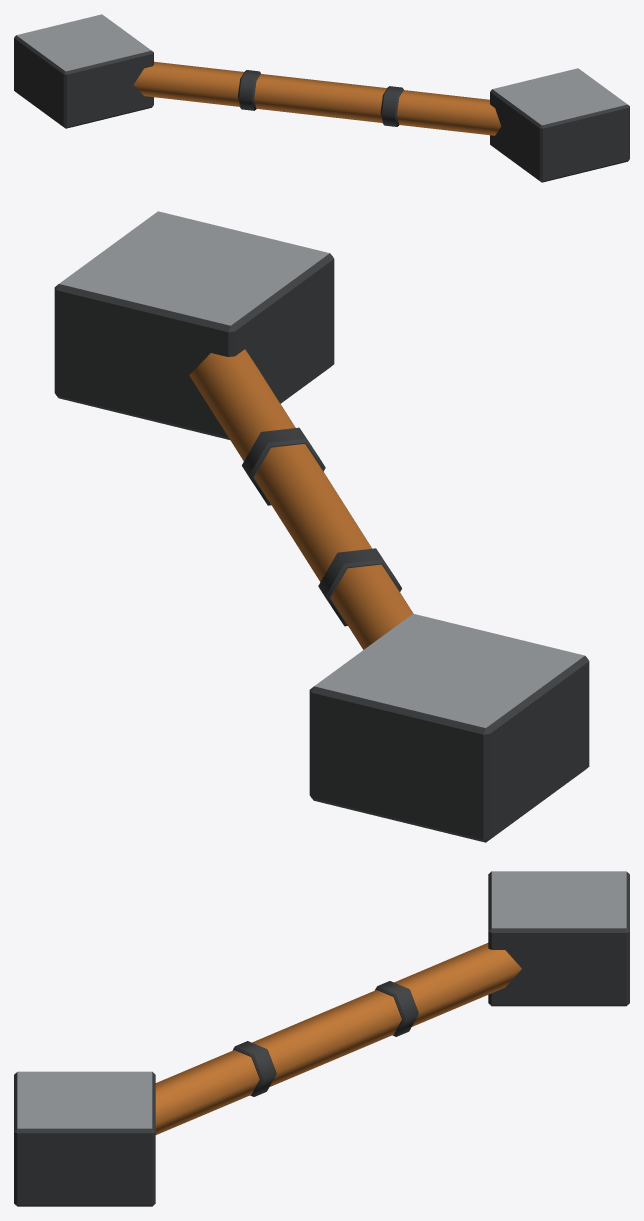
Rendered from R4C_ROD_DIAG_2D_LONG_LOD1.fbx.
3 renders of one model, top to bottom at view 1: azimuth 30°, elevation 25°; view 2: azimuth 150°, elevation 25°; view 3: azimuth 270°, elevation 25°, orthographic. The views are drawn at different scales.
Parts seen in each view (by area): view 1: R4C_ROD_DIAG_2D_LONG_LOD1; view 2: R4C_ROD_DIAG_2D_LONG_LOD1; view 3: R4C_ROD_DIAG_2D_LONG_LOD1.
Part boxes in pixels (box(x1,y1,x2,y2)): R4C_ROD_DIAG_2D_LONG_LOD1: box(14, 14, 629, 182); R4C_ROD_DIAG_2D_LONG_LOD1: box(54, 211, 589, 842); R4C_ROD_DIAG_2D_LONG_LOD1: box(14, 871, 629, 1206).
Size of the model in its own units: 1.62 by 0.226 by 1.62.
